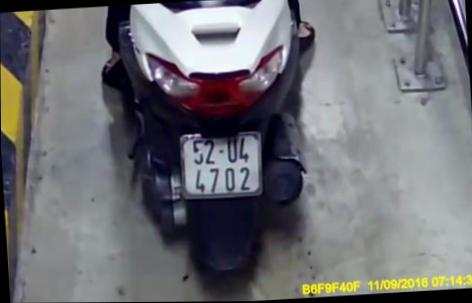LP: (176, 128, 264, 201)
